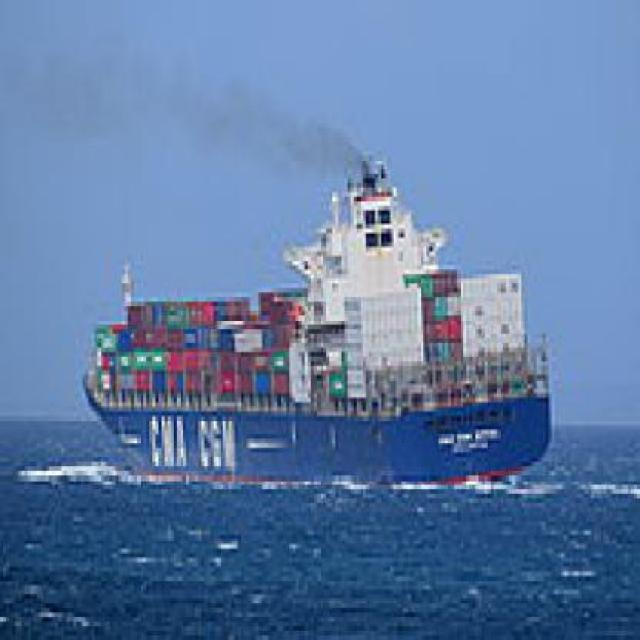container: (74, 134, 565, 500)
